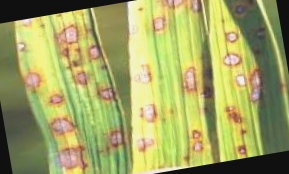Bacterial_Leaf_Blight: (231, 69, 268, 99), (53, 142, 86, 172), (125, 61, 154, 87), (45, 110, 74, 136), (179, 62, 199, 93), (189, 125, 209, 156), (54, 21, 80, 44), (128, 104, 156, 124), (214, 51, 244, 66), (101, 128, 123, 148), (221, 107, 243, 126), (218, 30, 242, 47), (44, 91, 65, 110), (133, 134, 155, 152), (23, 69, 42, 88), (149, 18, 168, 32), (87, 46, 101, 63), (186, 0, 205, 12), (76, 72, 90, 87), (124, 22, 138, 35), (16, 39, 26, 54), (236, 142, 246, 155), (20, 21, 34, 29)
